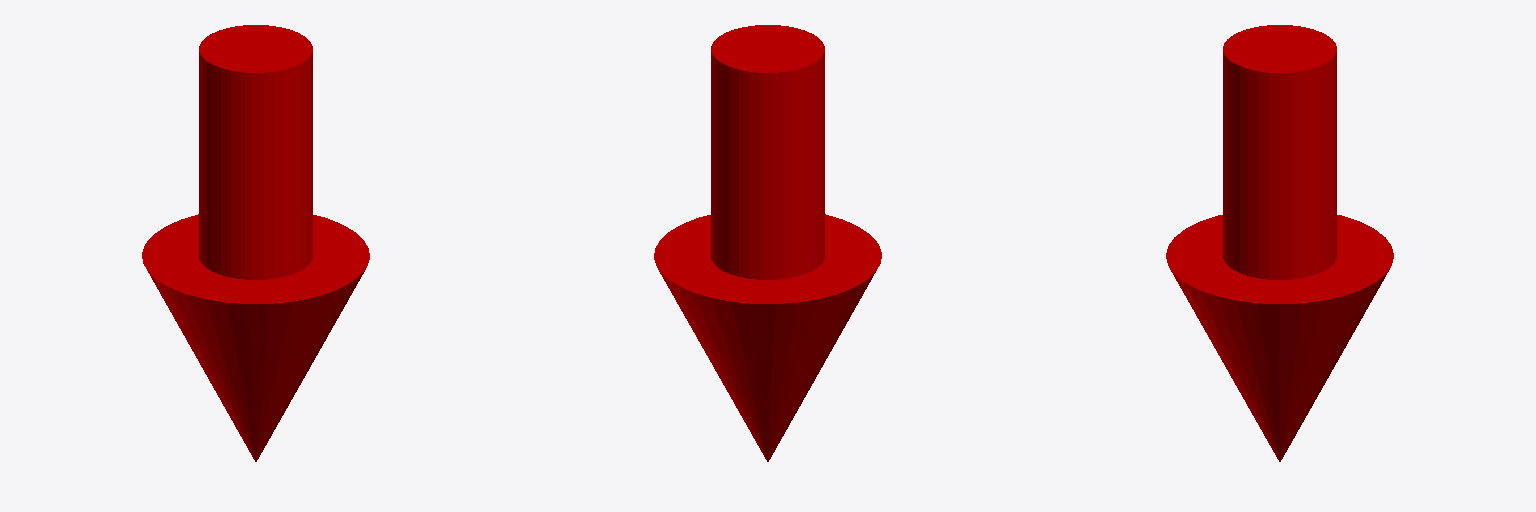
Rendered from arrow.obj.
3 renders of one model, left to right at view 1: azimuth 30°, elevation 25°; view 2: azimuth 150°, elevation 25°; view 3: azimuth 270°, elevation 25°, orthographic.
Parts seen in each view (by area): view 1: Cylinder, Cone; view 2: Cylinder, Cone; view 3: Cylinder, Cone.
Part boxes in pixels (x1,y1,x2,y2): Cylinder: (199,25,312,279); Cone: (142,214,369,461); Cylinder: (711,25,824,279); Cone: (654,214,881,461); Cylinder: (1223,25,1336,279); Cone: (1166,215,1393,461).
Bounding box in the file's own units: 0.2 × 0.4 × 0.2.